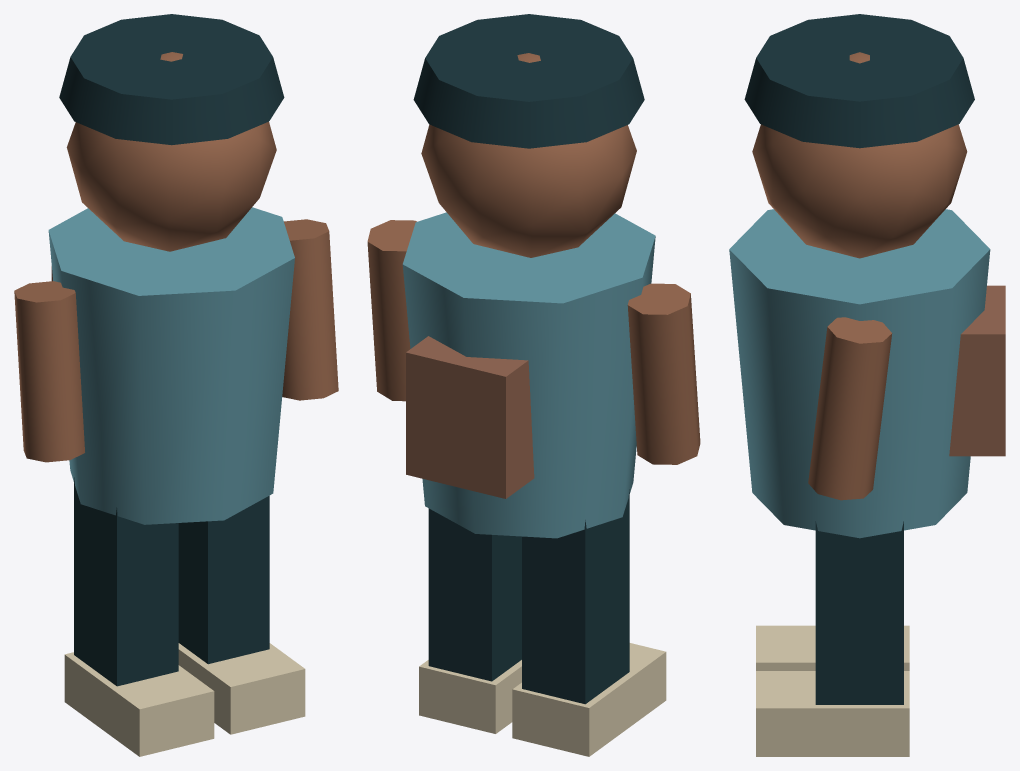
File: guest_b.glb
3 renders of one model, left to right at view 1: azimuth 30°, elevation 25°; view 2: azimuth 150°, elevation 25°; view 3: azimuth 270°, elevation 25°, orthographic. The views are drawn at different scales.
Parts seen in each view (by area): view 1: guest_b; view 2: guest_b; view 3: guest_b.
Boxes of the visible parts, x1=… form: guest_b: x1=14, y1=14, x2=338, y2=756; guest_b: x1=367, y1=14, x2=700, y2=756; guest_b: x1=729, y1=14, x2=1005, y2=756.
Bounding box in the file's own units: 0.95 × 1.9 × 0.72.
